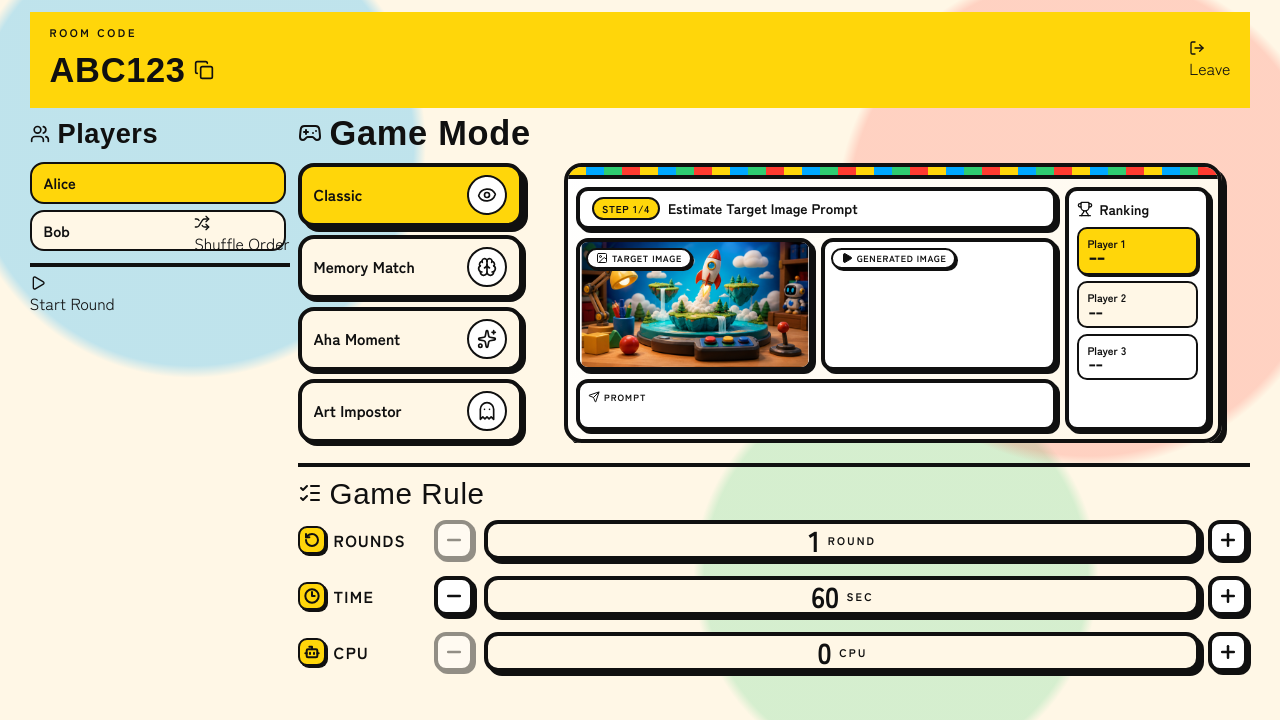
Test case: LobbyPage › restores the lobby UI and shows an error when leaving fails
Click the button "Leave".
click(1210, 60)  # box x1=1189 y1=24 x2=1230 y2=96
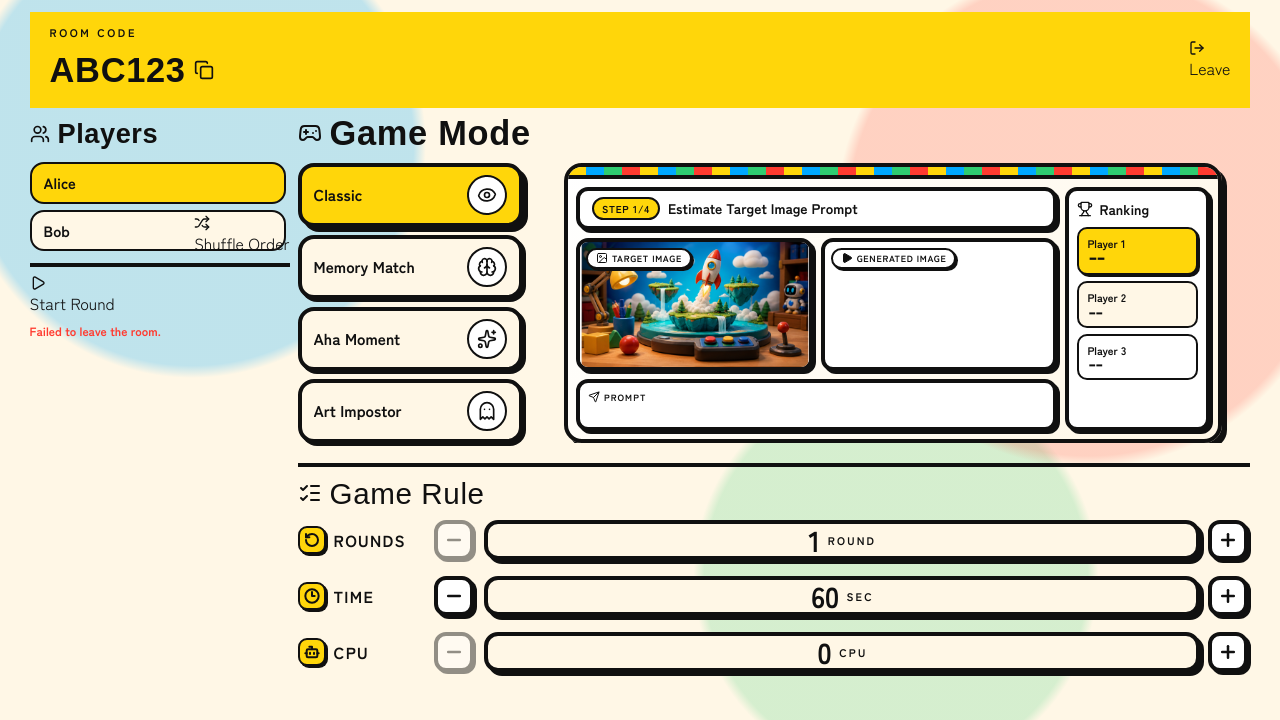
Now the text "Failed to leave the room." is shown, box x1=30 y1=322 x2=161 y2=339
